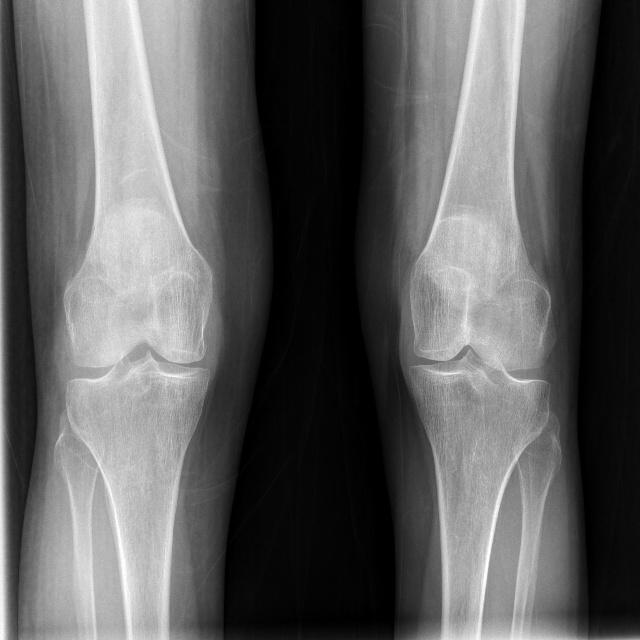Knee: (62, 263, 215, 428), (404, 271, 551, 436)
